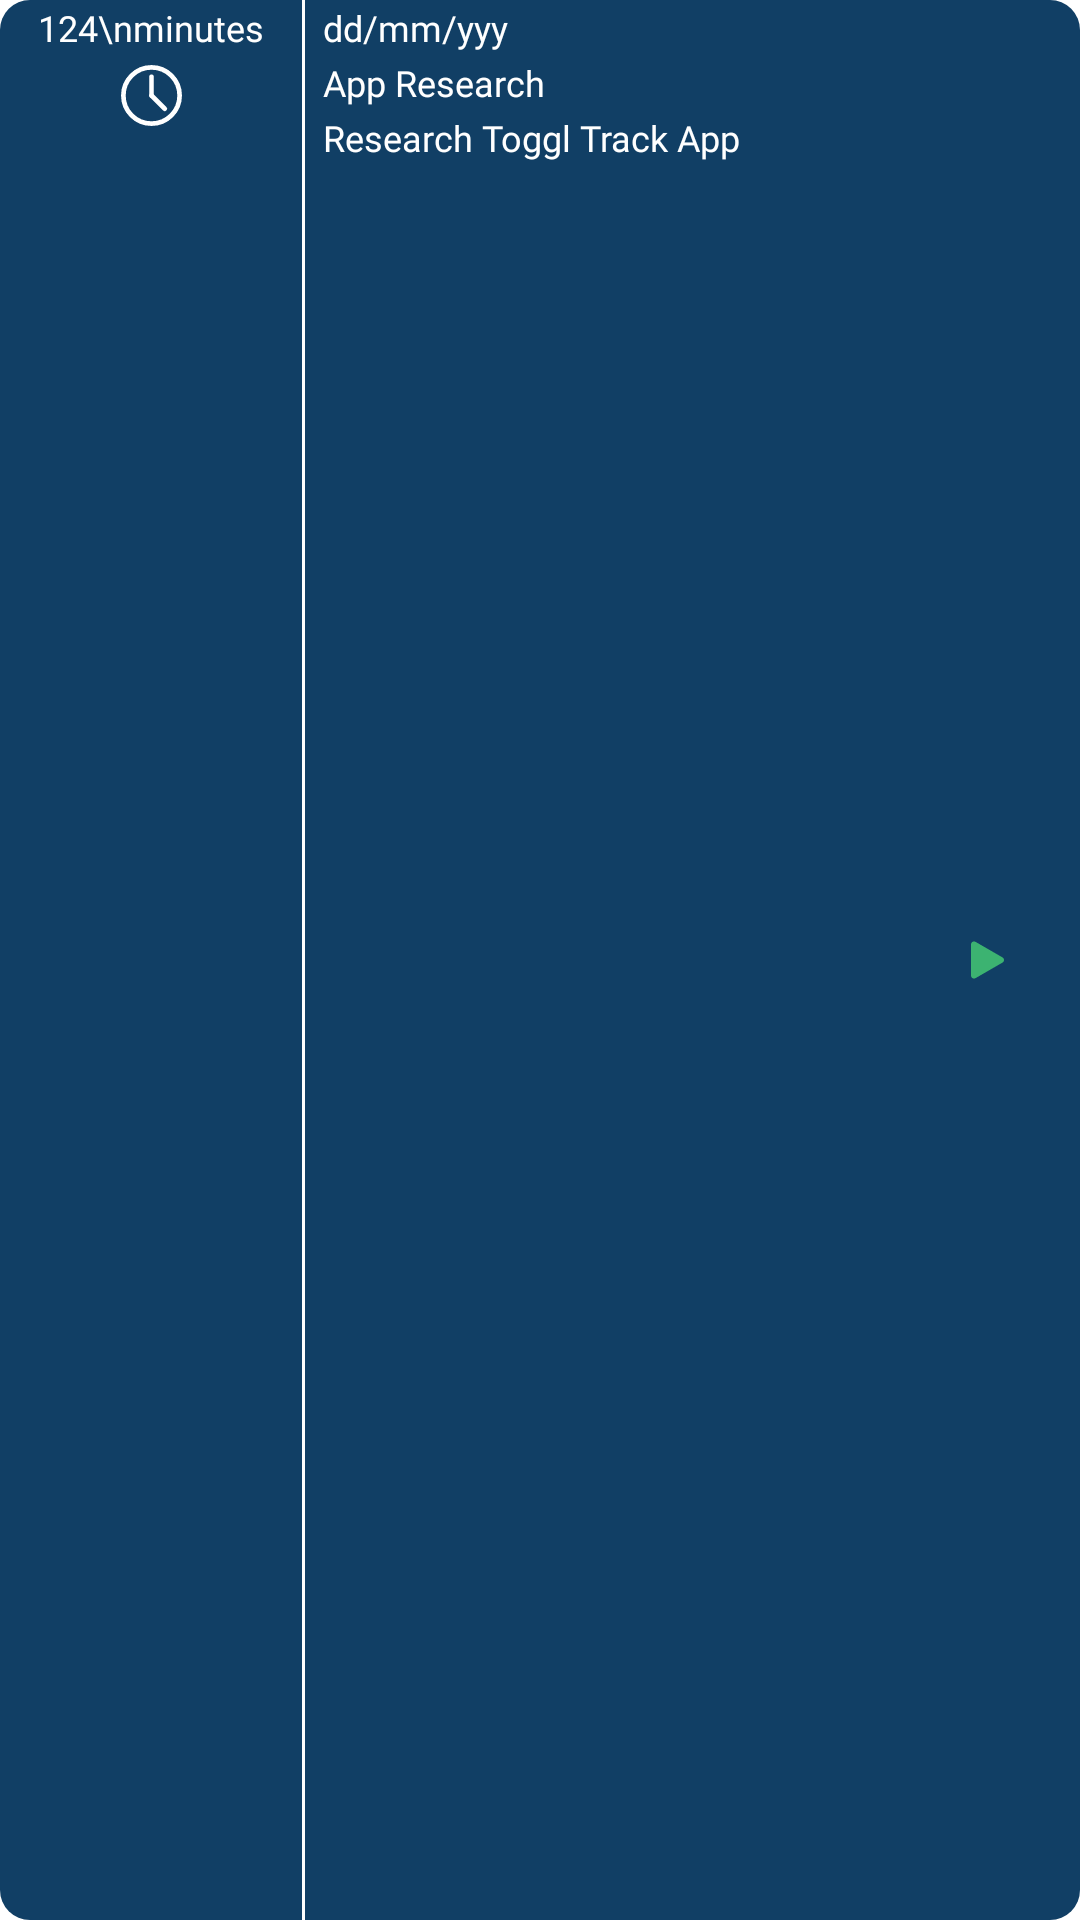

Locate icon controls on the screen. Image size 1080x1920, boxes as bbox(x1, y1, x2, y2).
play shape: bbox(971, 941, 1004, 979)
time: bbox(121, 65, 182, 126)
